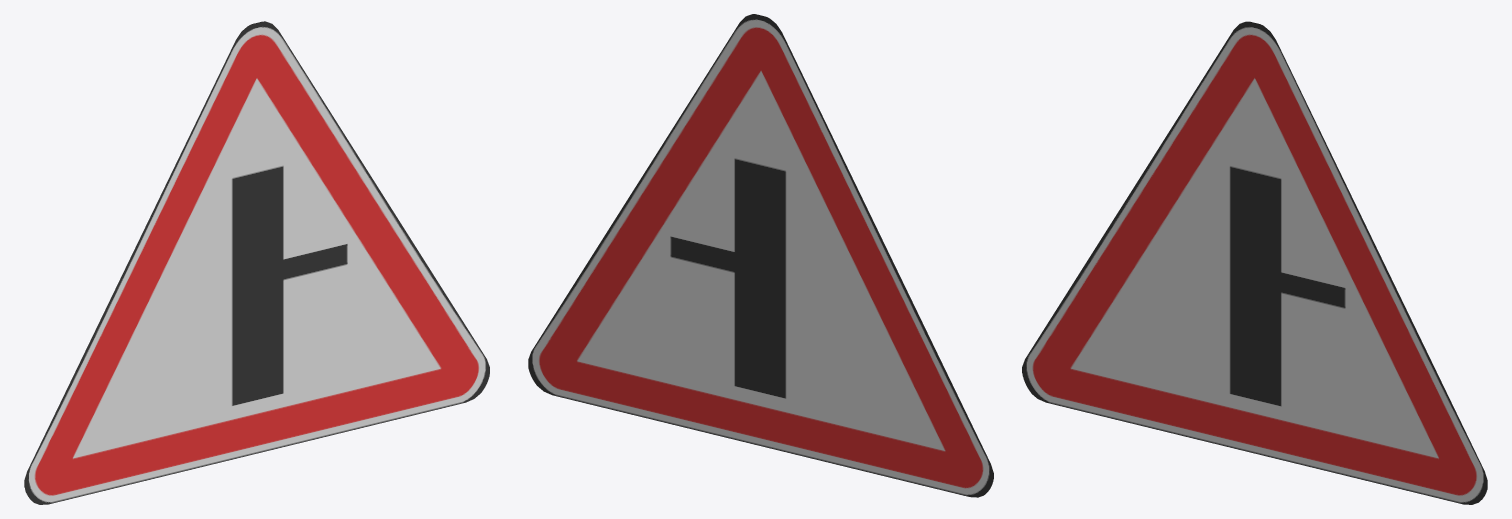
The model's file is Sign Triangle.FBX.
3 views of the same model, side by side, from view 1: azimuth 30°, elevation 25°; view 2: azimuth 150°, elevation 25°; view 3: azimuth 330°, elevation 25° (orthographic).
Parts seen in each view (by area): view 1: Sign Triangle; view 2: Sign Triangle; view 3: Sign Triangle.
Part boxes in pixels (x1,y1,x2,y2): Sign Triangle: (24, 21, 489, 504); Sign Triangle: (528, 14, 993, 497); Sign Triangle: (1022, 21, 1487, 504).
Size of the model in its own units: 79.65 by 70.58 by 3.
Materials: 1 (1 with a texture image).
